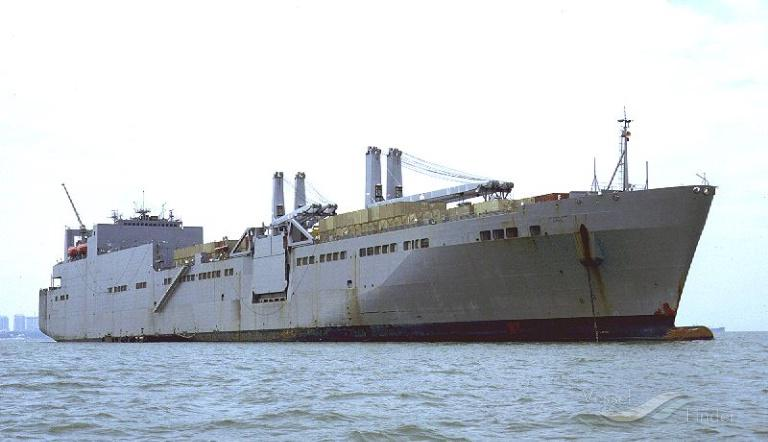OCR: (541, 212, 571, 225)
